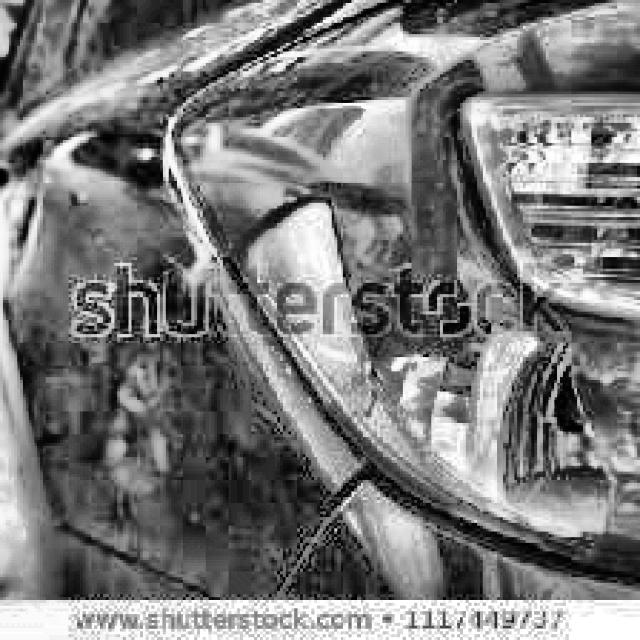tail_lamp: (252, 182, 586, 500)
